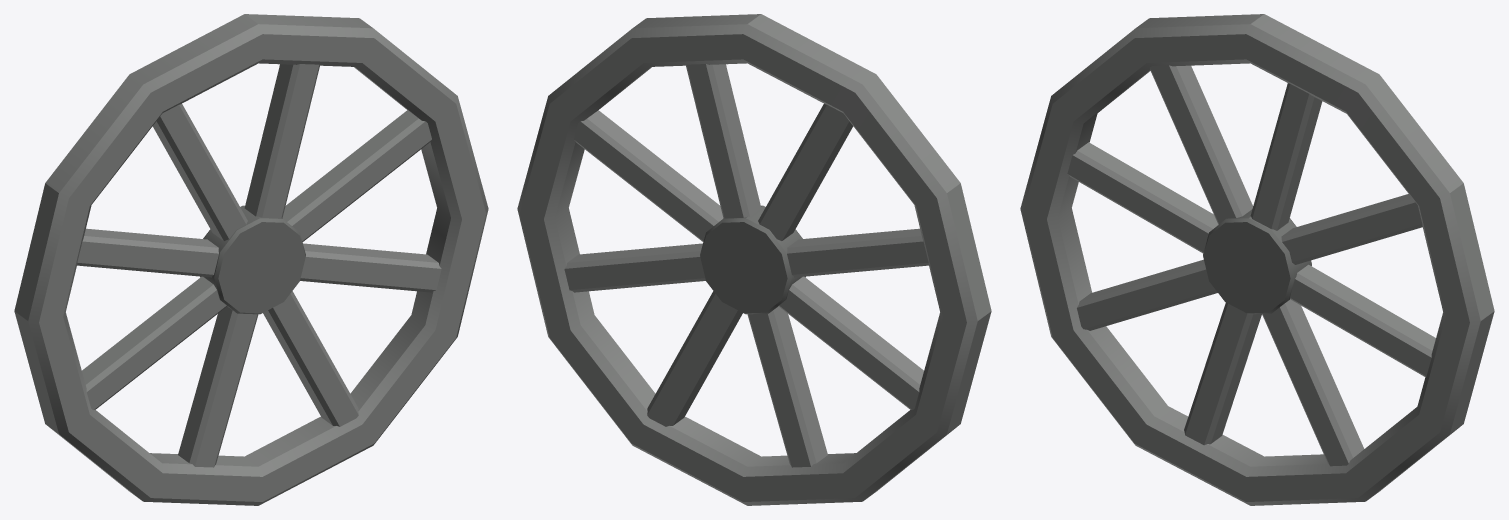
The model's file is MedievalWheel_1.fbx.
The picture shows the model from 3 angles, left to right: view 1: azimuth 30°, elevation 25°; view 2: azimuth 150°, elevation 25°; view 3: azimuth 330°, elevation 25°; orthographic projection.
Visible parts, largest first — view 1: MedievalWheel_1; view 2: MedievalWheel_1; view 3: MedievalWheel_1.
Part boxes in pixels (bbox=[...]): MedievalWheel_1: bbox=[14, 14, 488, 505]; MedievalWheel_1: bbox=[517, 14, 991, 505]; MedievalWheel_1: bbox=[1020, 14, 1494, 505].
Bounding box in the file's own units: 99.51 × 99.51 × 8.35.
